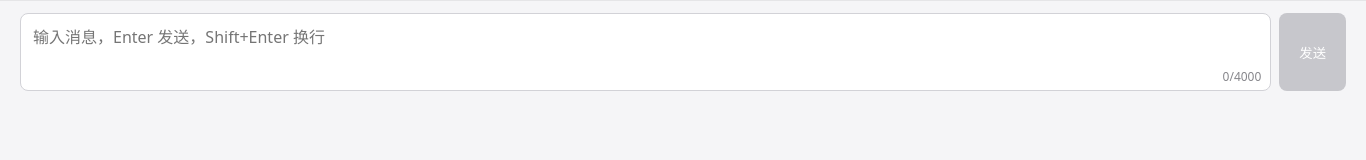
Composer › 点击发送后调用onSend,并清空输入框
The width and height of the screenshot is (1366, 160).
Type "你好" into the text box at (646, 52), box [20,13,1271,91]
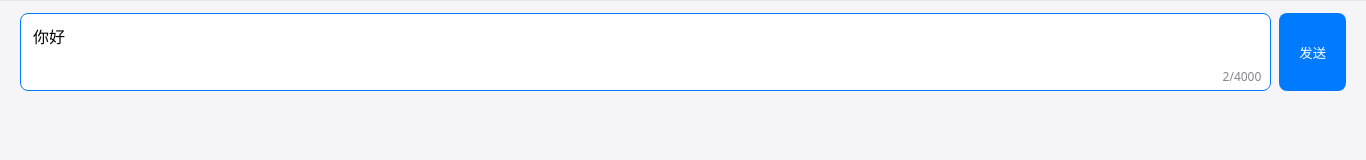
Click the button "发送" at (1313, 52), box [1279,13,1346,91]
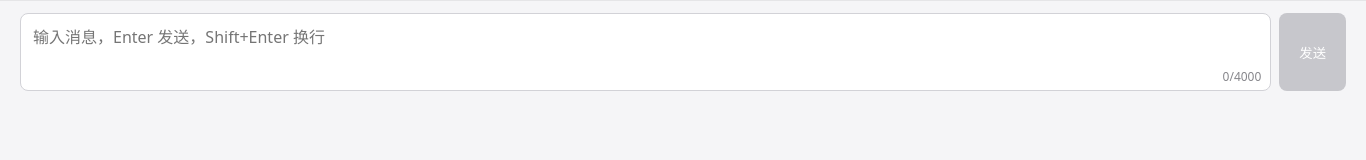
expect the text box is empty: met, box [20,13,1271,91]
